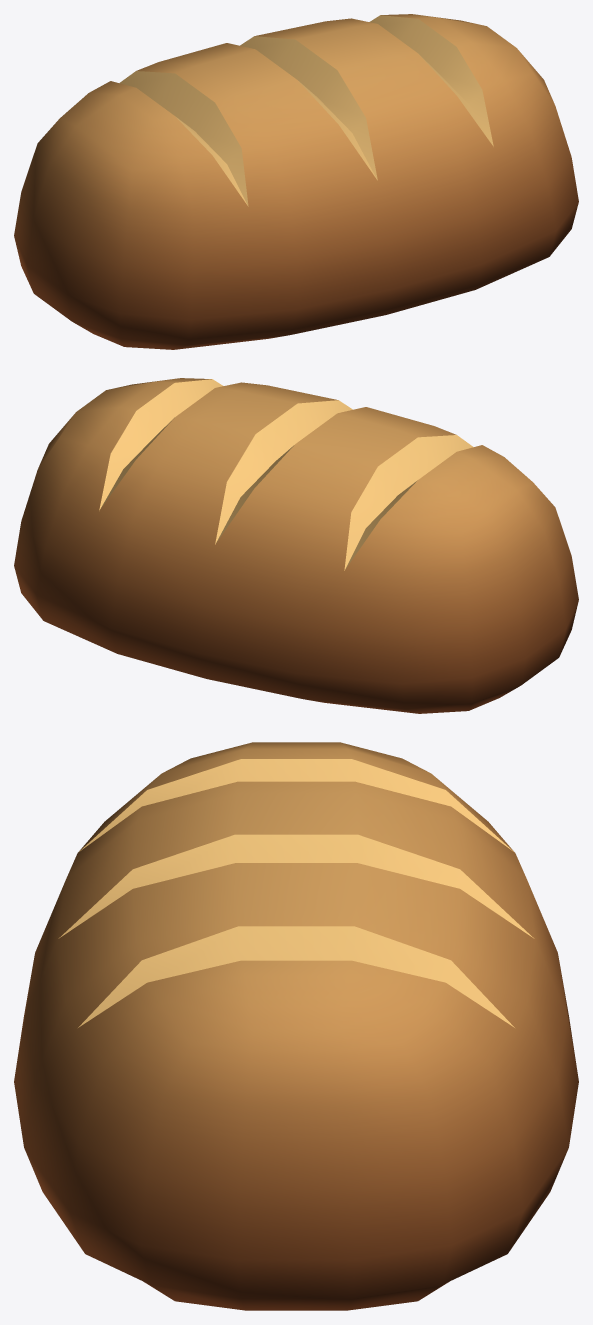
Rendered from Bread_Round_01.glb.
3 views of the same model, one above another, from view 1: azimuth 30°, elevation 25°; view 2: azimuth 150°, elevation 25°; view 3: azimuth 270°, elevation 25° (orthographic). The views are drawn at different scales.
Parts seen in each view (by area): view 1: Bread_Round_01; view 2: Bread_Round_01; view 3: Bread_Round_01.
Boxes of the visible parts, x1,y1,x2,y2 form: Bread_Round_01: (14, 14, 578, 349); Bread_Round_01: (14, 378, 578, 713); Bread_Round_01: (14, 742, 578, 1310).
Size of the model in its own units: 0.8363 by 0.343 by 0.5603.
Materials: 1 (1 with a texture image).
